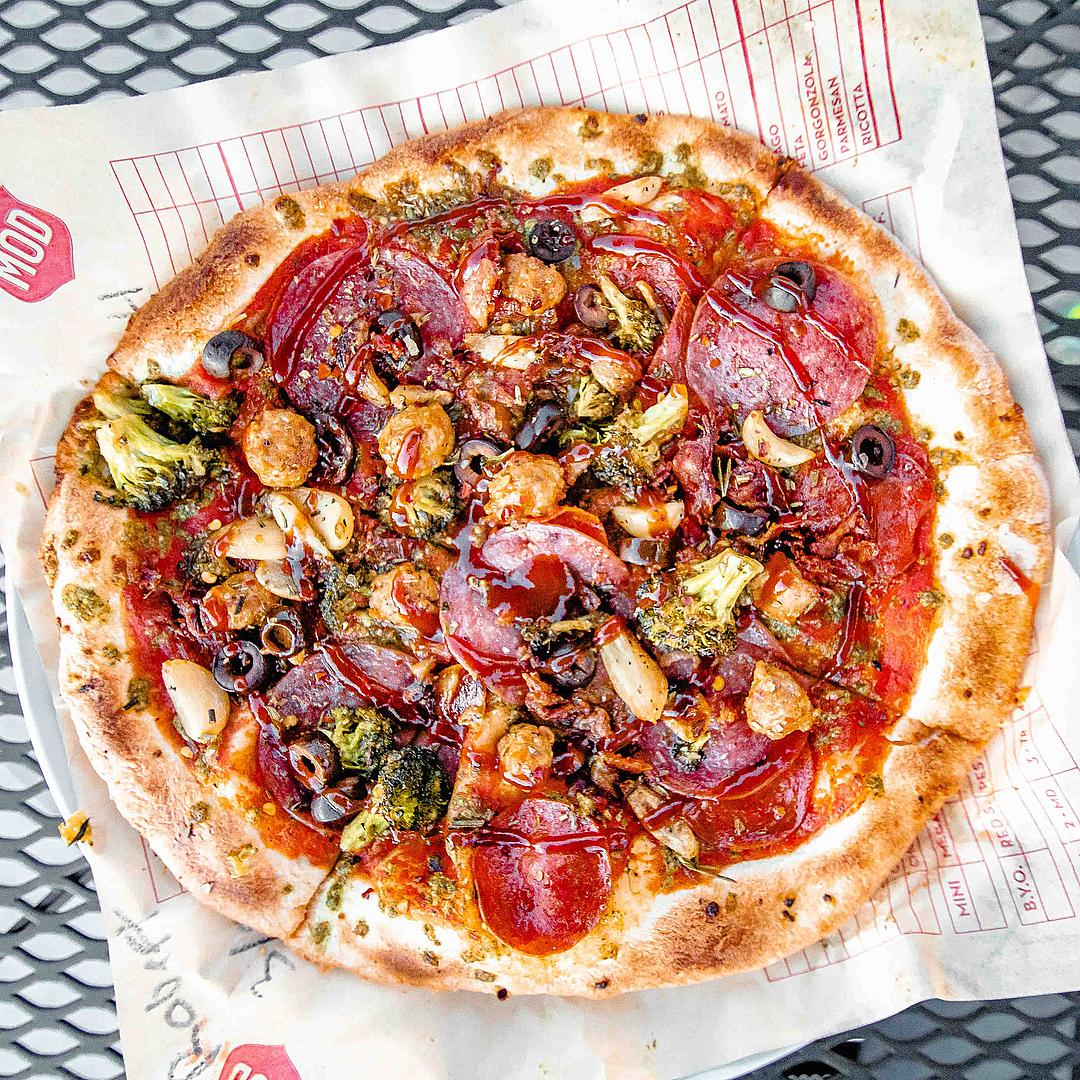Broccoli: (84, 379, 241, 520), (627, 545, 768, 661), (335, 739, 448, 865), (566, 374, 687, 489), (376, 466, 461, 540), (595, 272, 666, 352), (328, 703, 399, 776)
Chicken: (458, 247, 568, 331), (239, 403, 321, 494), (374, 396, 459, 481), (744, 548, 826, 632), (740, 659, 820, 745), (483, 448, 569, 524), (195, 567, 281, 639), (494, 718, 559, 786)
Olives: (364, 306, 424, 383), (305, 405, 353, 491), (197, 327, 273, 381), (844, 416, 899, 490), (445, 437, 505, 501), (286, 730, 343, 792), (208, 637, 267, 696), (763, 253, 817, 314), (713, 493, 771, 545), (564, 282, 618, 335), (514, 399, 564, 452), (545, 635, 595, 688), (524, 215, 578, 261)
Pepperoni: (250, 637, 464, 844), (268, 241, 473, 453), (433, 524, 641, 716), (682, 247, 880, 442), (619, 629, 806, 808), (467, 790, 616, 960)
Pizza: (29, 83, 1062, 1012)
